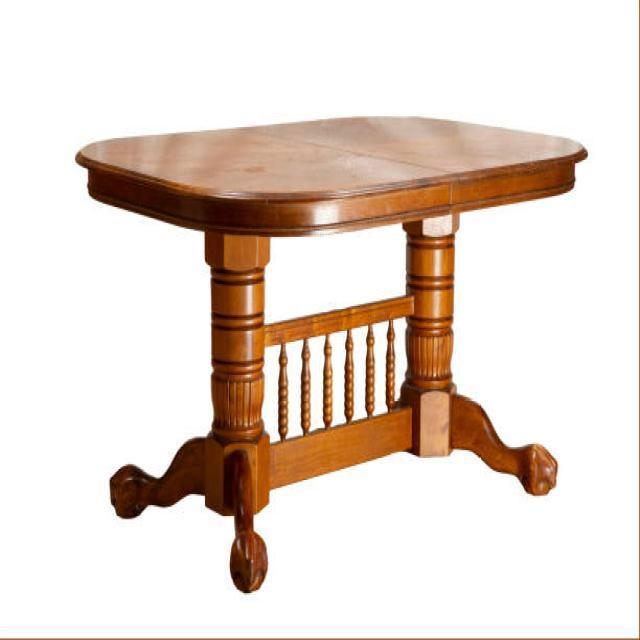table: (74, 113, 588, 593)
